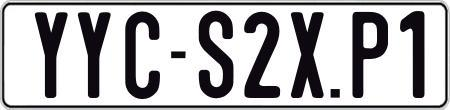1: (399, 8, 427, 96)
2: (241, 11, 282, 98)
C: (122, 10, 161, 101)
P: (350, 11, 385, 102)
S: (199, 10, 234, 100)
X: (289, 10, 323, 100)
Y: (76, 9, 113, 98), (34, 9, 72, 95)
